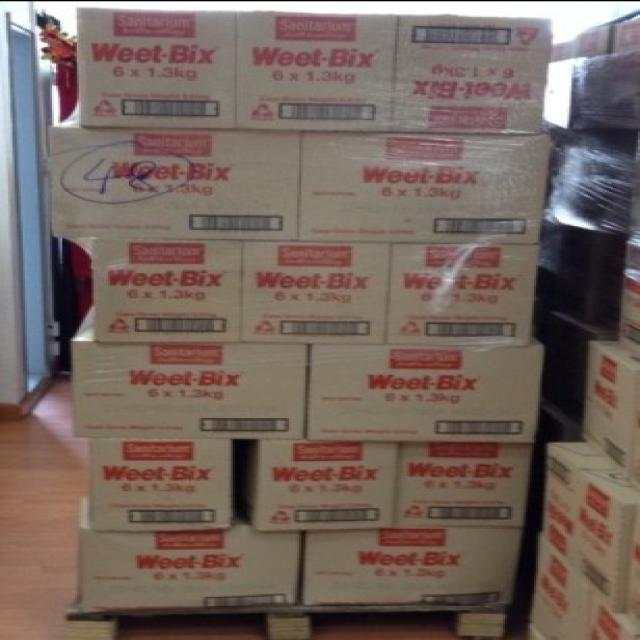box: (73, 306, 310, 439), (301, 129, 549, 246), (50, 127, 303, 239), (75, 494, 301, 610), (308, 336, 542, 444), (235, 13, 401, 131), (393, 13, 553, 135), (79, 9, 237, 127), (299, 530, 526, 609), (540, 443, 640, 613), (237, 239, 395, 345), (89, 239, 243, 342), (384, 244, 538, 344), (85, 439, 237, 530), (254, 439, 399, 533), (393, 443, 532, 529), (586, 342, 640, 487), (534, 534, 603, 639), (617, 270, 640, 362), (574, 29, 611, 57), (611, 20, 640, 52), (549, 40, 576, 63)
